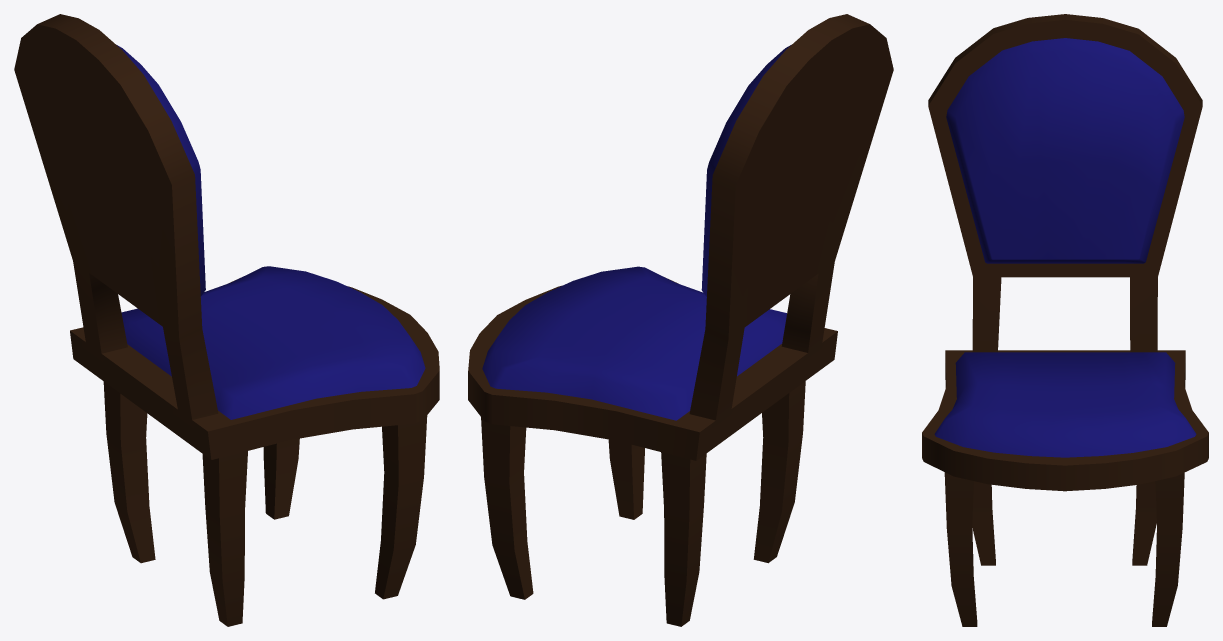
Rendered from DiningChair.fbx.
3 renders of one model, left to right at view 1: azimuth 30°, elevation 25°; view 2: azimuth 150°, elevation 25°; view 3: azimuth 270°, elevation 25°, orthographic. The views are drawn at different scales.
Visible parts, largest first — view 1: Chair:DiningRoomChair; view 2: Chair:DiningRoomChair; view 3: Chair:DiningRoomChair.
Boxes of the visible parts, box(x1,y1,x2,y2) form: Chair:DiningRoomChair: box(14, 14, 439, 626); Chair:DiningRoomChair: box(468, 14, 893, 626); Chair:DiningRoomChair: box(922, 14, 1208, 626).
Size of the model in its own units: 119 by 198 by 102.
